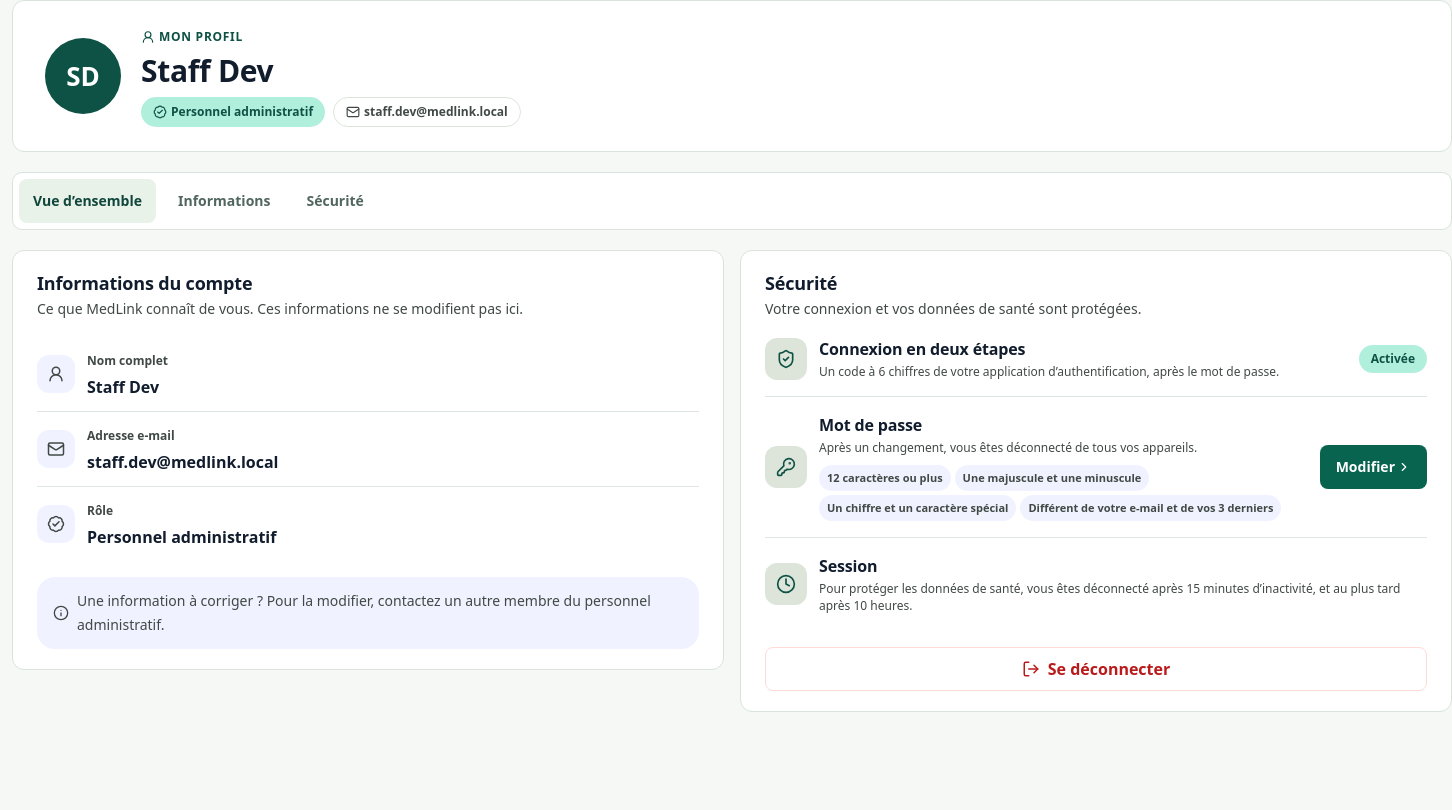
the security card: the second step at login is on, the password changes on its page
Expected: the element "Sécurité" shows "Connexion en deux étapes", left=819, top=338, right=1025, bottom=360
Expected: the text "Activée" is shown, left=1359, top=345, right=1427, bottom=373
What coordinates should you click on to do the following:
click the link with aria-label "Modifier le mot de passe"
I would click on:
 (1373, 467)
Its box is left=1320, top=445, right=1427, bottom=489.
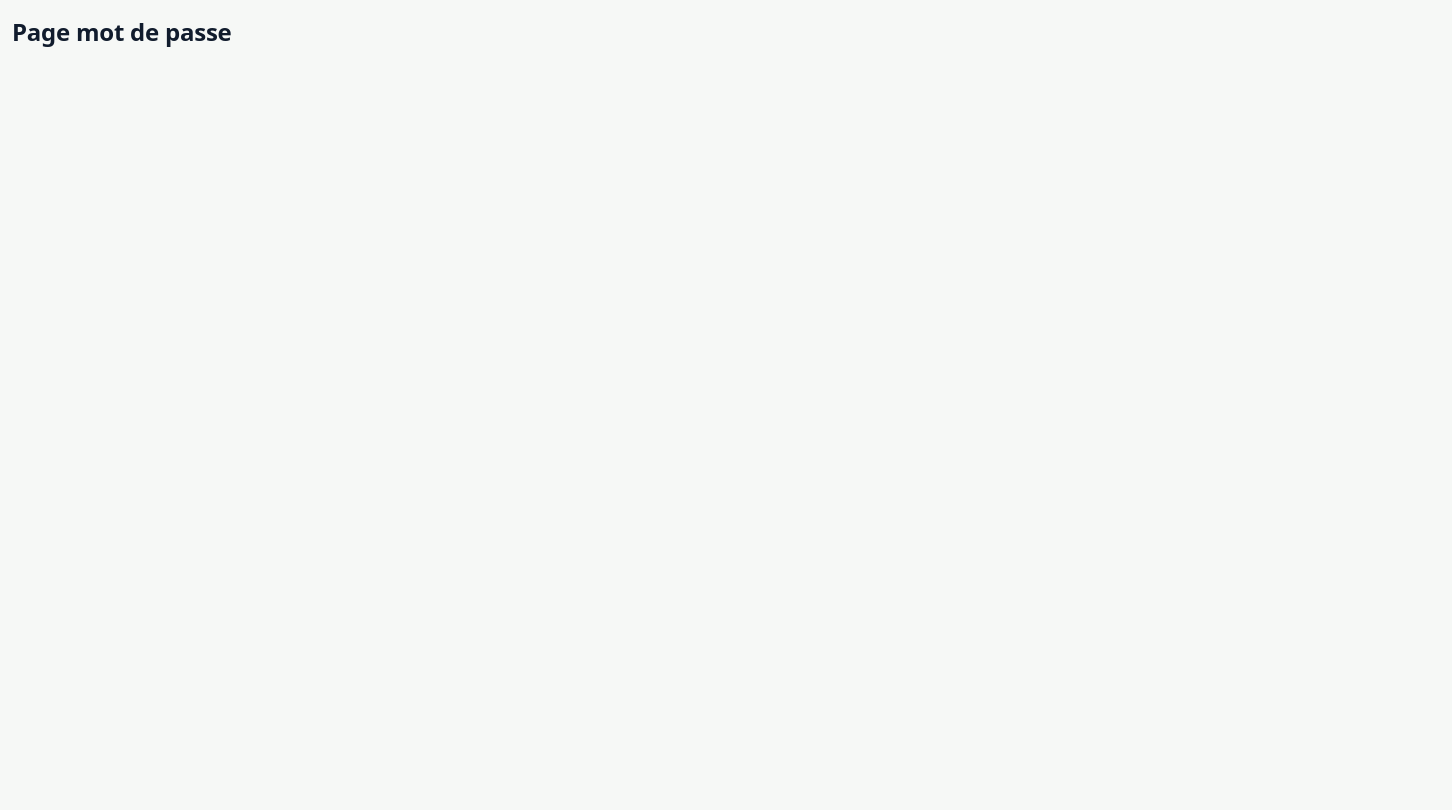
Expected: the heading "Page mot de passe" is shown, left=12, top=15, right=232, bottom=48
